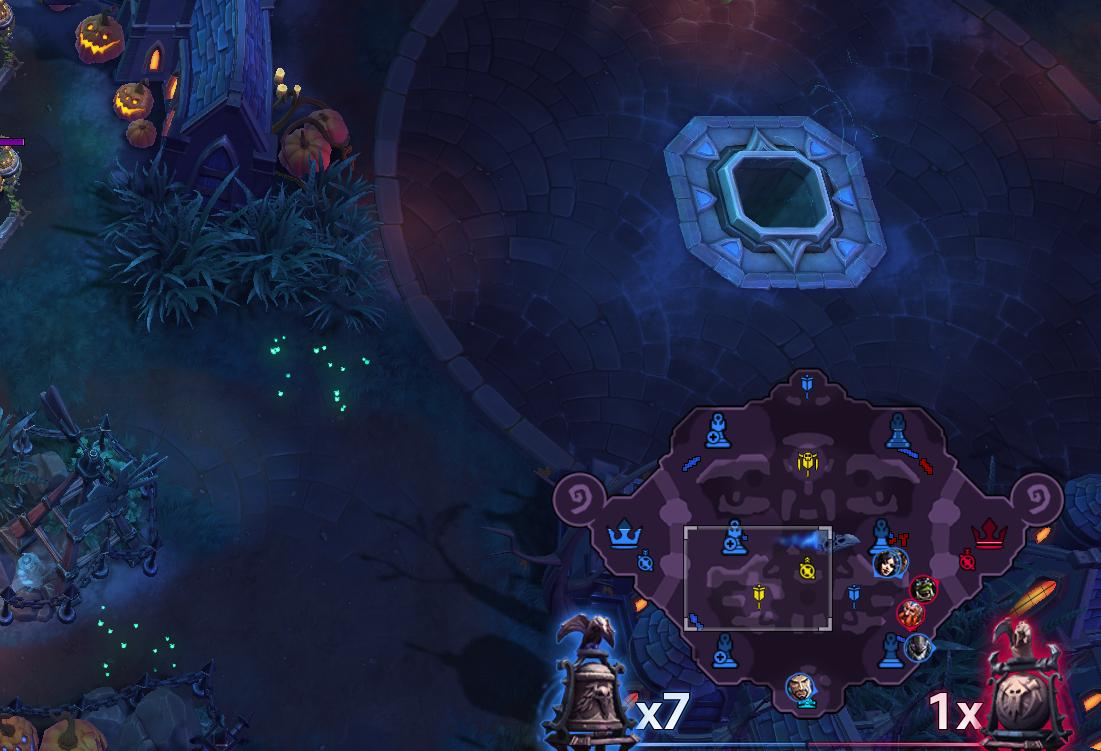blue nexus: (598, 506, 654, 572)
blue player: (902, 624, 942, 668), (869, 545, 908, 585), (782, 670, 817, 707)
blue tower: (700, 400, 740, 455), (705, 624, 740, 675), (716, 516, 752, 561), (874, 626, 908, 673), (882, 404, 915, 451), (865, 512, 894, 561)
red nexus: (961, 507, 1015, 557)
red player: (890, 593, 930, 633), (907, 569, 944, 607)
